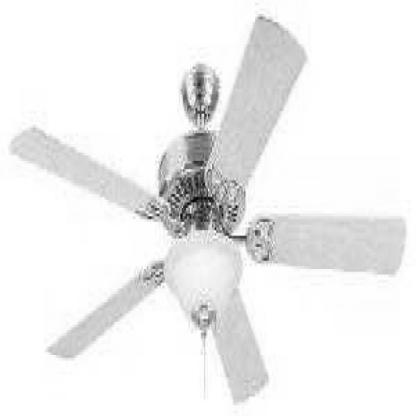ceiling-fan: (9, 15, 407, 404)
